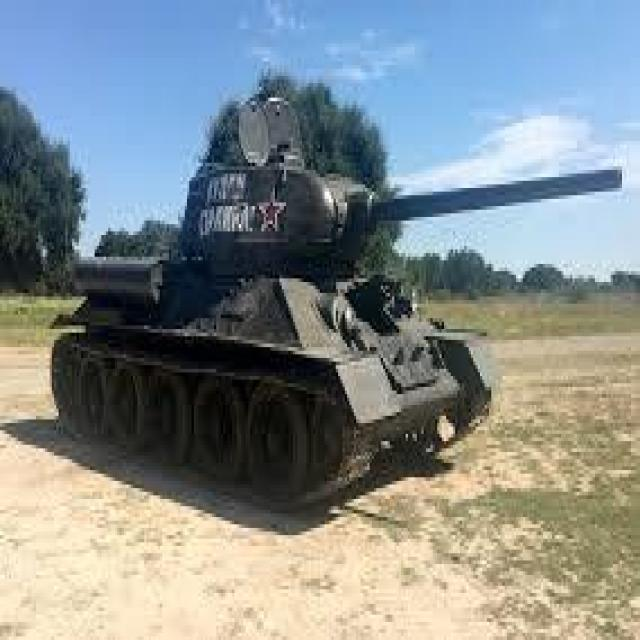MIL_MBT: (34, 83, 554, 586)
